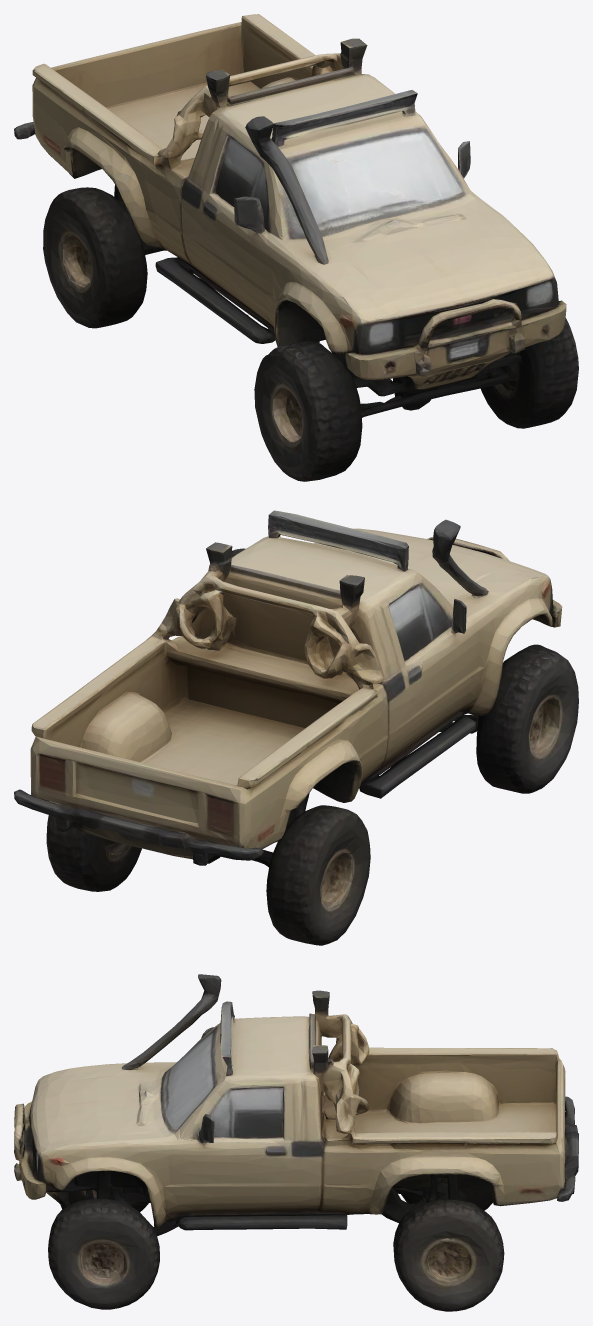
3 renders of one model, top to bottom at view 1: azimuth 30°, elevation 25°; view 2: azimuth 150°, elevation 25°; view 3: azimuth 270°, elevation 25°, orthographic. The views are drawn at different scales.
Visible parts, largest first — view 1: geometry_0; view 2: geometry_0; view 3: geometry_0.
Boxes of the visible parts, x1,y1,x2,y2 form: geometry_0: (14, 14, 578, 481); geometry_0: (14, 510, 578, 945); geometry_0: (14, 974, 578, 1311).
Size of the model in its own units: 0.4516 by 0.4883 by 0.997.
1 material, 1 textured.
